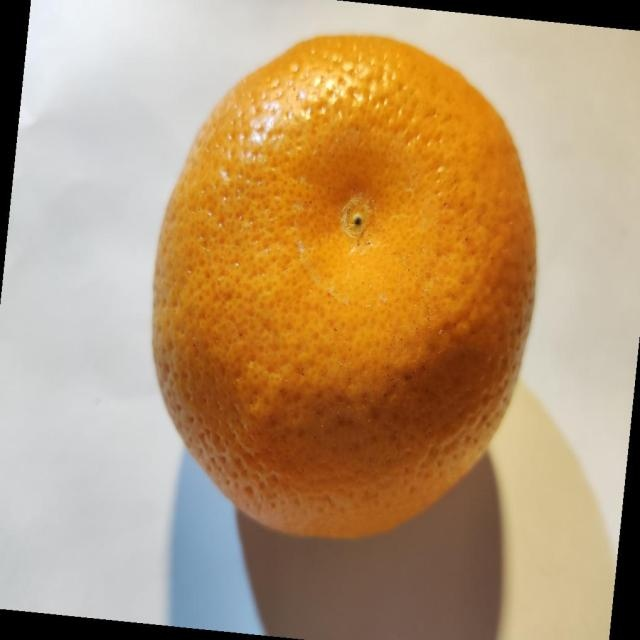agrume: (150, 32, 538, 540)
